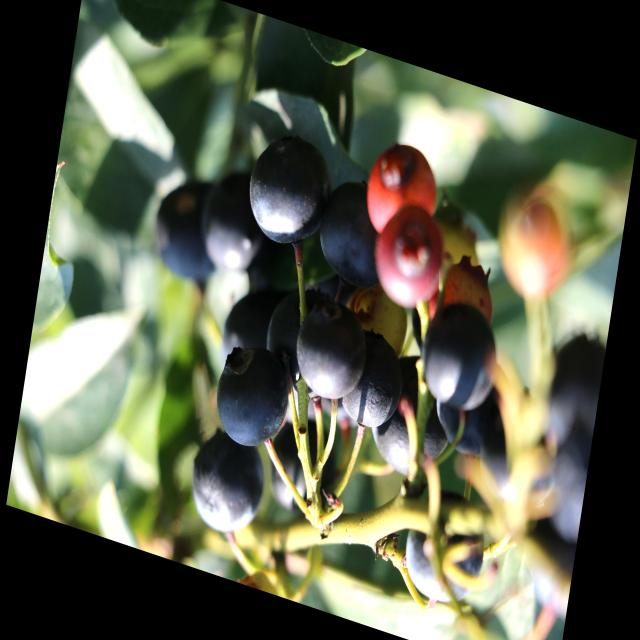blueberry: (373, 353, 455, 496), (244, 131, 332, 256), (399, 496, 487, 618), (317, 173, 399, 300), (421, 299, 502, 422), (211, 337, 291, 458), (188, 425, 270, 539), (476, 412, 558, 520), (539, 328, 606, 459), (294, 297, 370, 407), (148, 178, 221, 284), (263, 423, 336, 523), (202, 166, 266, 274), (342, 327, 404, 438), (260, 278, 308, 374), (220, 285, 272, 367)
blueberry-halfripe: (366, 196, 451, 322), (360, 130, 444, 249)
